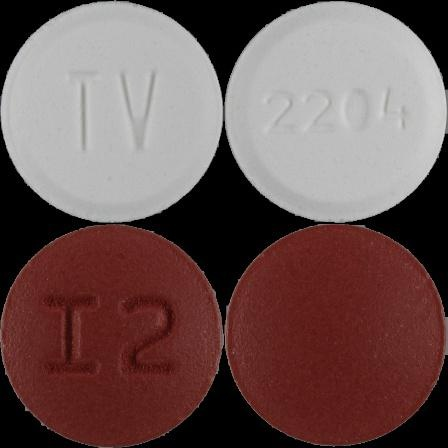50436-1873: (0, 0, 224, 224)
